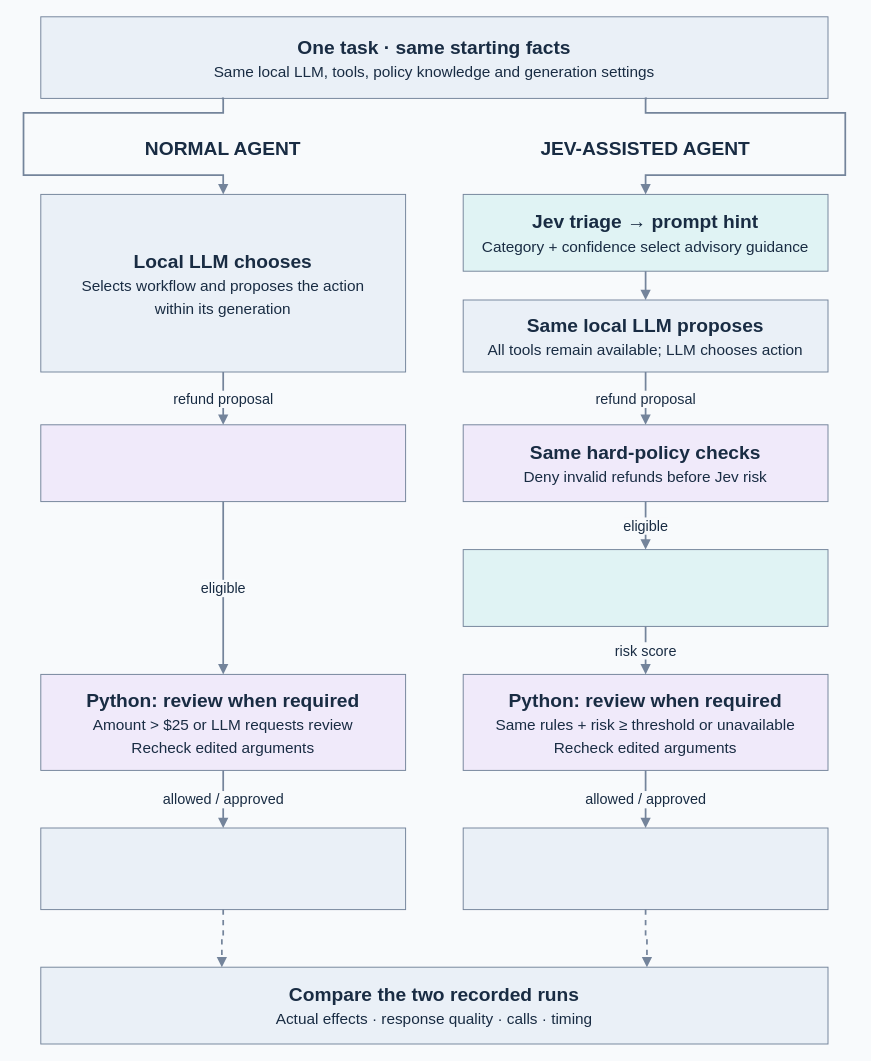
This 871x1061 diagram has some shape labels left out. The box of each missing label's shape, as (x1, y1, x2, y2) in pixels:
Jev assesses eligible refund Proposed arguments + verified evidence: (462, 549, 828, 626)
Python: hard-policy checks Ownership, amount limits, duplicate refunds: (40, 424, 406, 502)
Simulated tool → LLM response Independent order data and checkpoints: (462, 827, 828, 910)
Simulated tool → LLM response Own order data and checkpoints: (40, 827, 406, 910)
